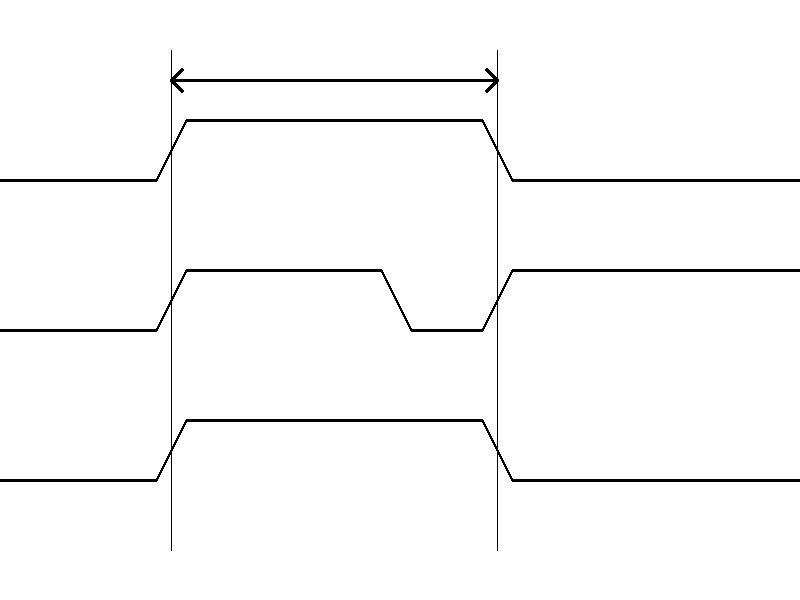double_arrow: (171, 65, 497, 95)
